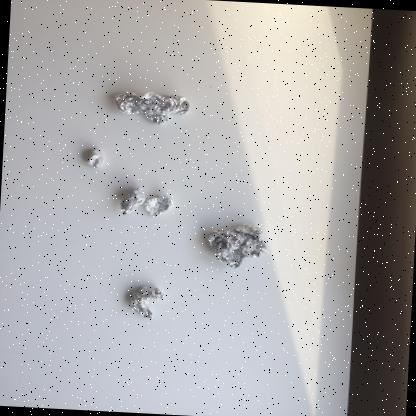Aluminium foil: (206, 223, 267, 269), (114, 91, 189, 124), (129, 286, 164, 318), (120, 186, 147, 214), (143, 194, 173, 217), (86, 149, 104, 167)
